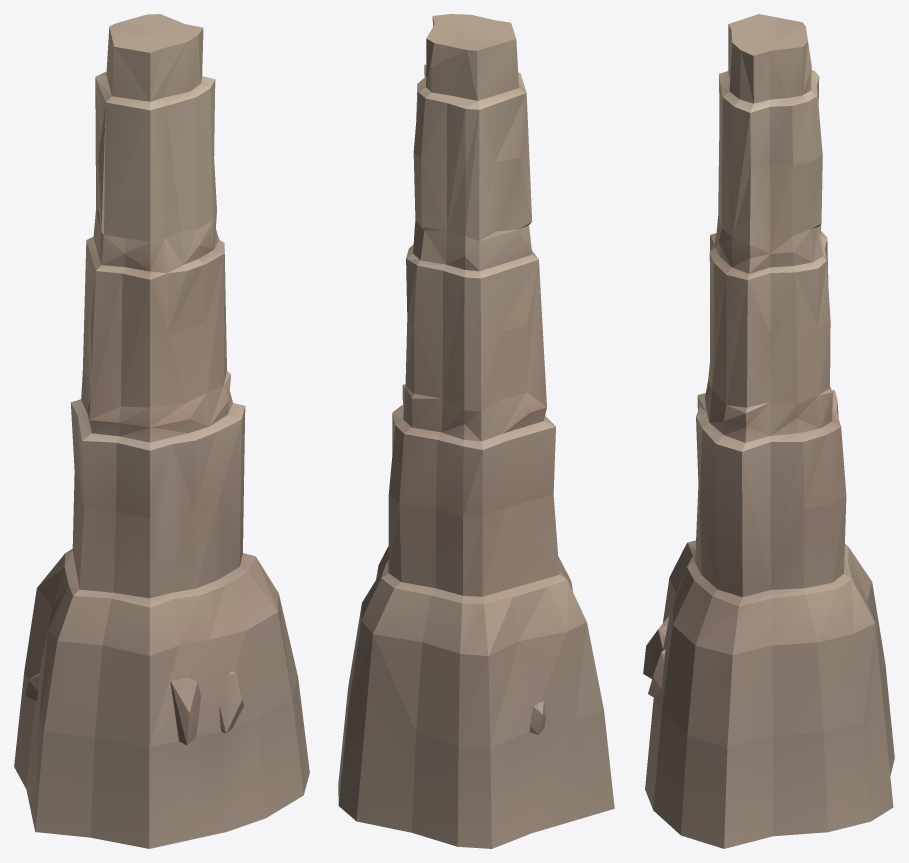
File: mesa_0.lod1.glb
3 renders of one model, left to right at view 1: azimuth 30°, elevation 25°; view 2: azimuth 150°, elevation 25°; view 3: azimuth 270°, elevation 25°, orthographic.
Bounding box in the file's own units: 14.4 × 39 × 11.88.
